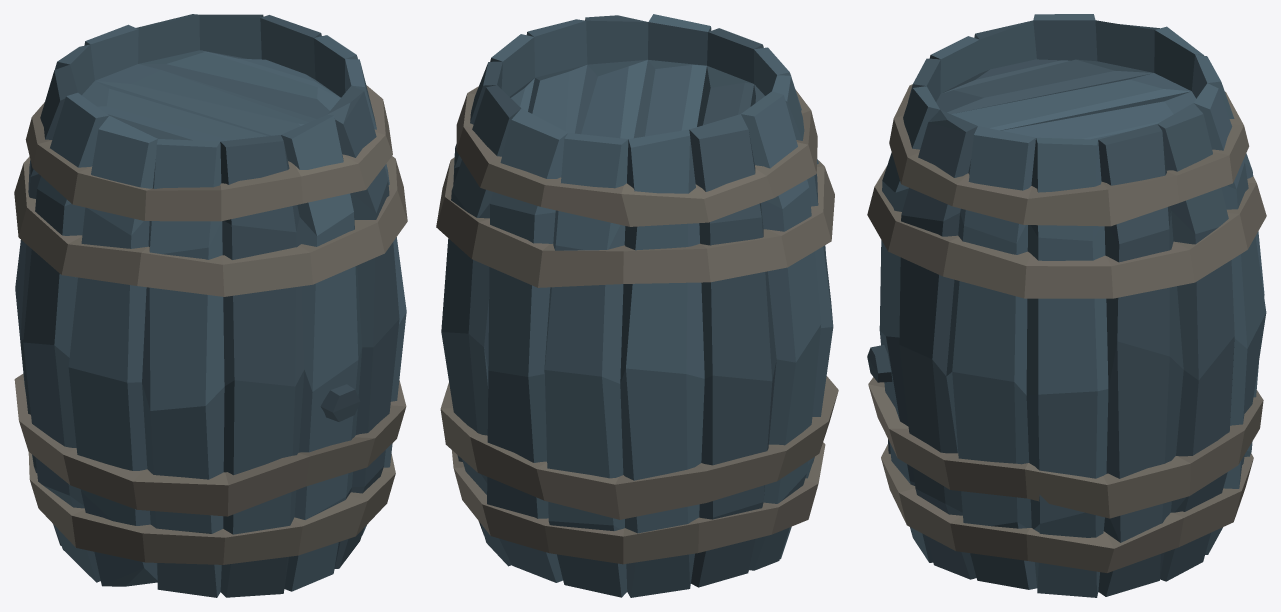
The model's file is Barrel_3.fbx.
3 views of the same model, side by side, from view 1: azimuth 30°, elevation 25°; view 2: azimuth 150°, elevation 25°; view 3: azimuth 270°, elevation 25° (orthographic).
Parts seen in each view (by area): view 1: Barrel_3; view 2: Barrel_3; view 3: Barrel_3.
Part boxes in pixels (x1,y1,x2,y2): Barrel_3: (14, 14, 407, 597); Barrel_3: (436, 14, 838, 597); Barrel_3: (867, 14, 1266, 597).
Size of the model in its own units: 72.87 by 94.6 by 73.5.
